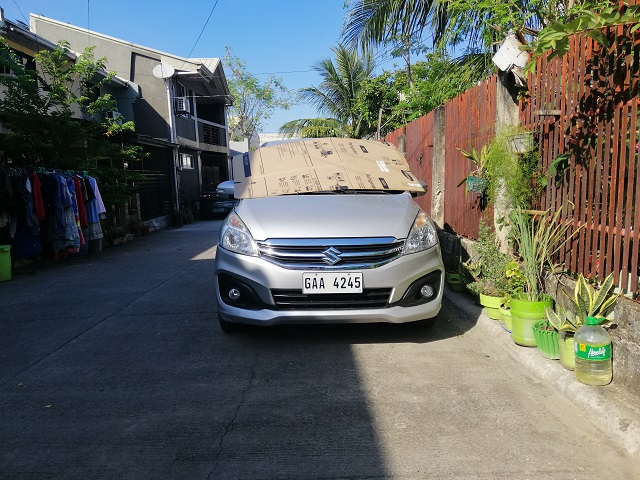bottle: (575, 318, 614, 386)
car: (213, 139, 444, 333)
plant: (512, 213, 551, 346), (477, 220, 507, 317), (552, 282, 578, 367), (538, 306, 557, 354)
